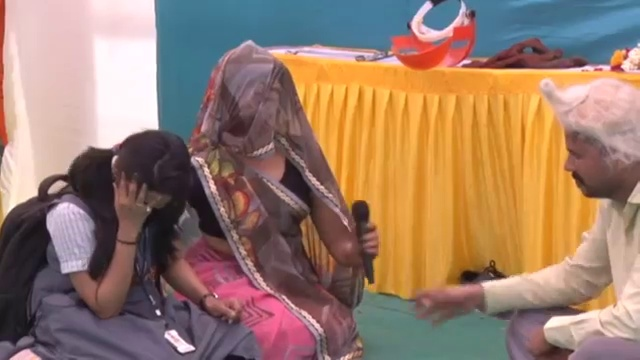helmet_off: (208, 44, 306, 171), (551, 81, 640, 210), (107, 134, 188, 225)
person: (408, 78, 640, 359), (172, 52, 378, 360), (0, 121, 258, 359)
